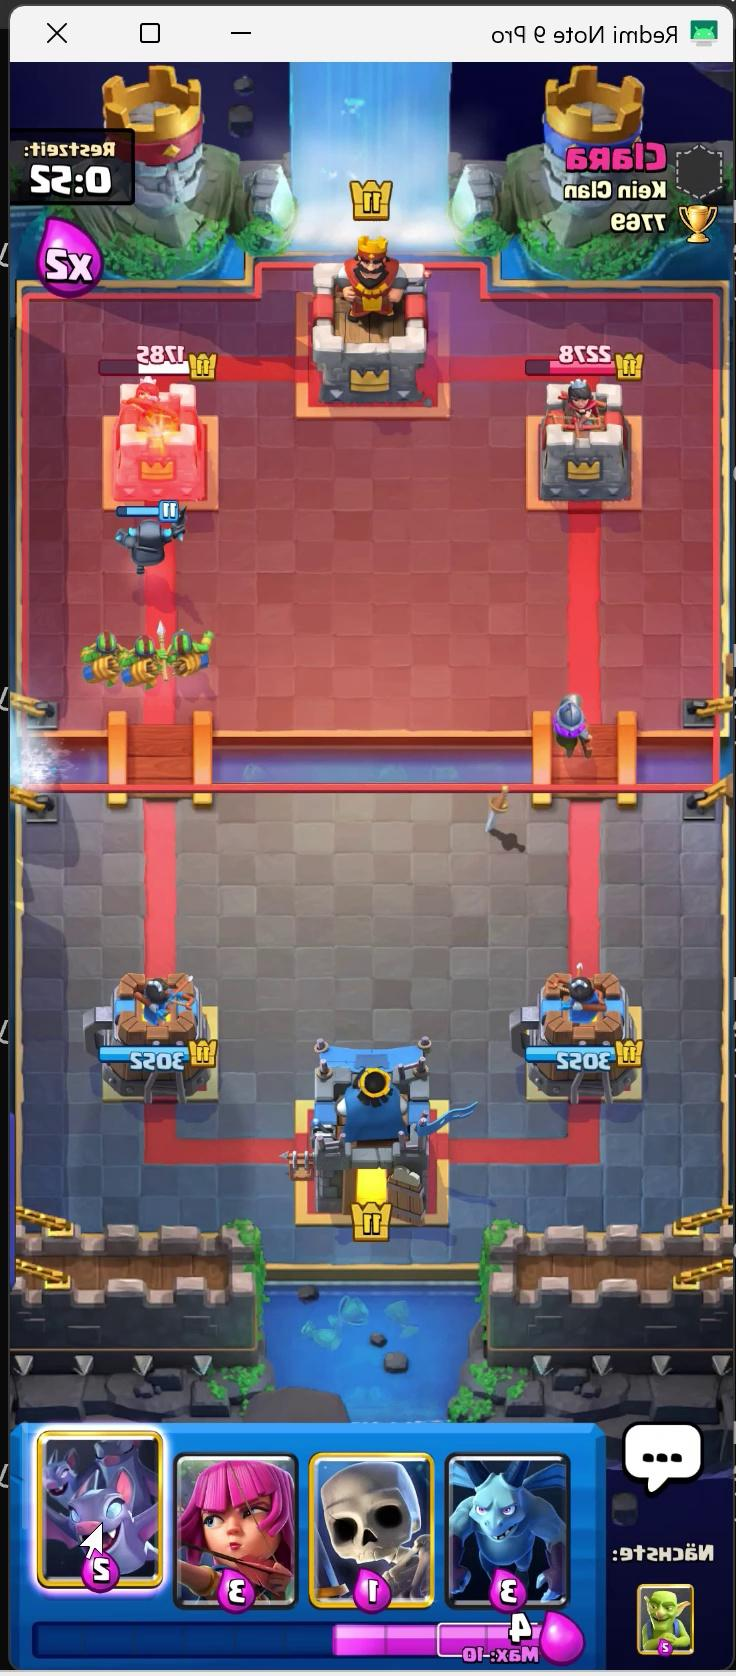gobelin_lances: (65, 625, 131, 688), (114, 634, 171, 688), (157, 629, 209, 677)
mini_PEKKA: (116, 510, 182, 575)
mousquetaire: (553, 700, 586, 757)
